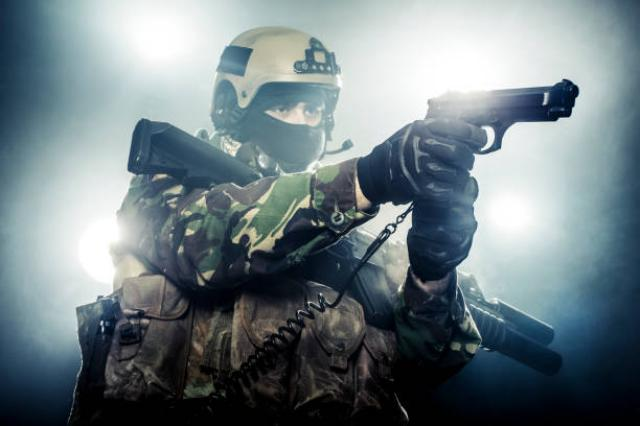other: (72, 26, 474, 414)
